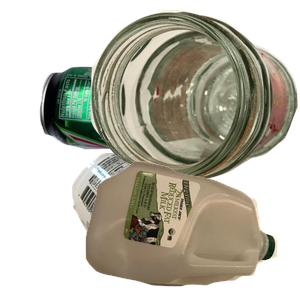glass: (90, 10, 300, 184)
metal: (37, 64, 245, 214)
plastic: (83, 159, 300, 300)
trash: (70, 149, 254, 300)
